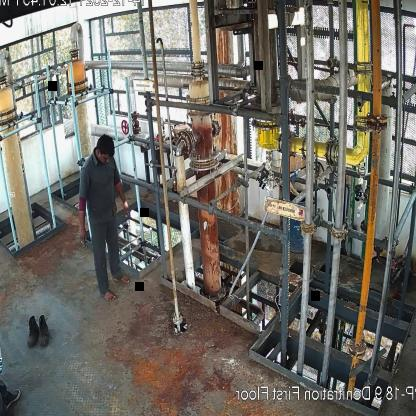no_shoes: (102, 286, 116, 302)
shoes: (35, 314, 51, 348), (26, 316, 38, 346)
